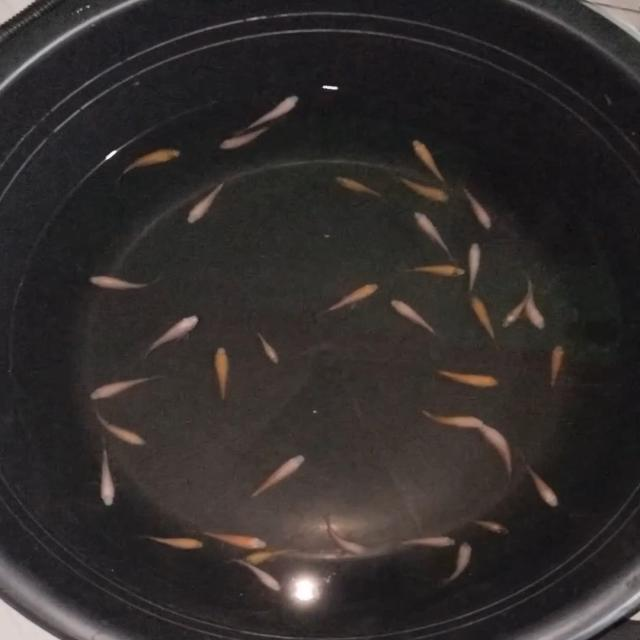nila: (110, 147, 182, 187), (248, 450, 308, 498), (412, 208, 458, 266), (314, 280, 384, 318), (474, 420, 514, 486), (238, 91, 302, 132), (144, 314, 198, 362), (410, 136, 454, 193), (183, 175, 230, 228), (88, 372, 169, 402), (389, 295, 442, 339), (82, 268, 162, 296), (520, 458, 562, 511), (437, 359, 502, 392), (94, 410, 150, 448), (457, 185, 497, 238), (232, 556, 284, 594), (216, 122, 276, 154), (321, 521, 371, 559), (418, 407, 486, 434), (438, 538, 473, 590), (328, 172, 388, 202), (394, 173, 452, 204), (192, 526, 266, 549), (522, 269, 548, 333), (397, 260, 471, 282), (210, 342, 234, 409), (471, 292, 498, 348), (139, 531, 209, 551), (502, 288, 534, 330), (462, 239, 483, 300), (98, 437, 116, 508), (239, 545, 294, 567), (546, 340, 568, 394), (392, 533, 460, 550), (255, 326, 282, 366), (474, 515, 514, 539)
